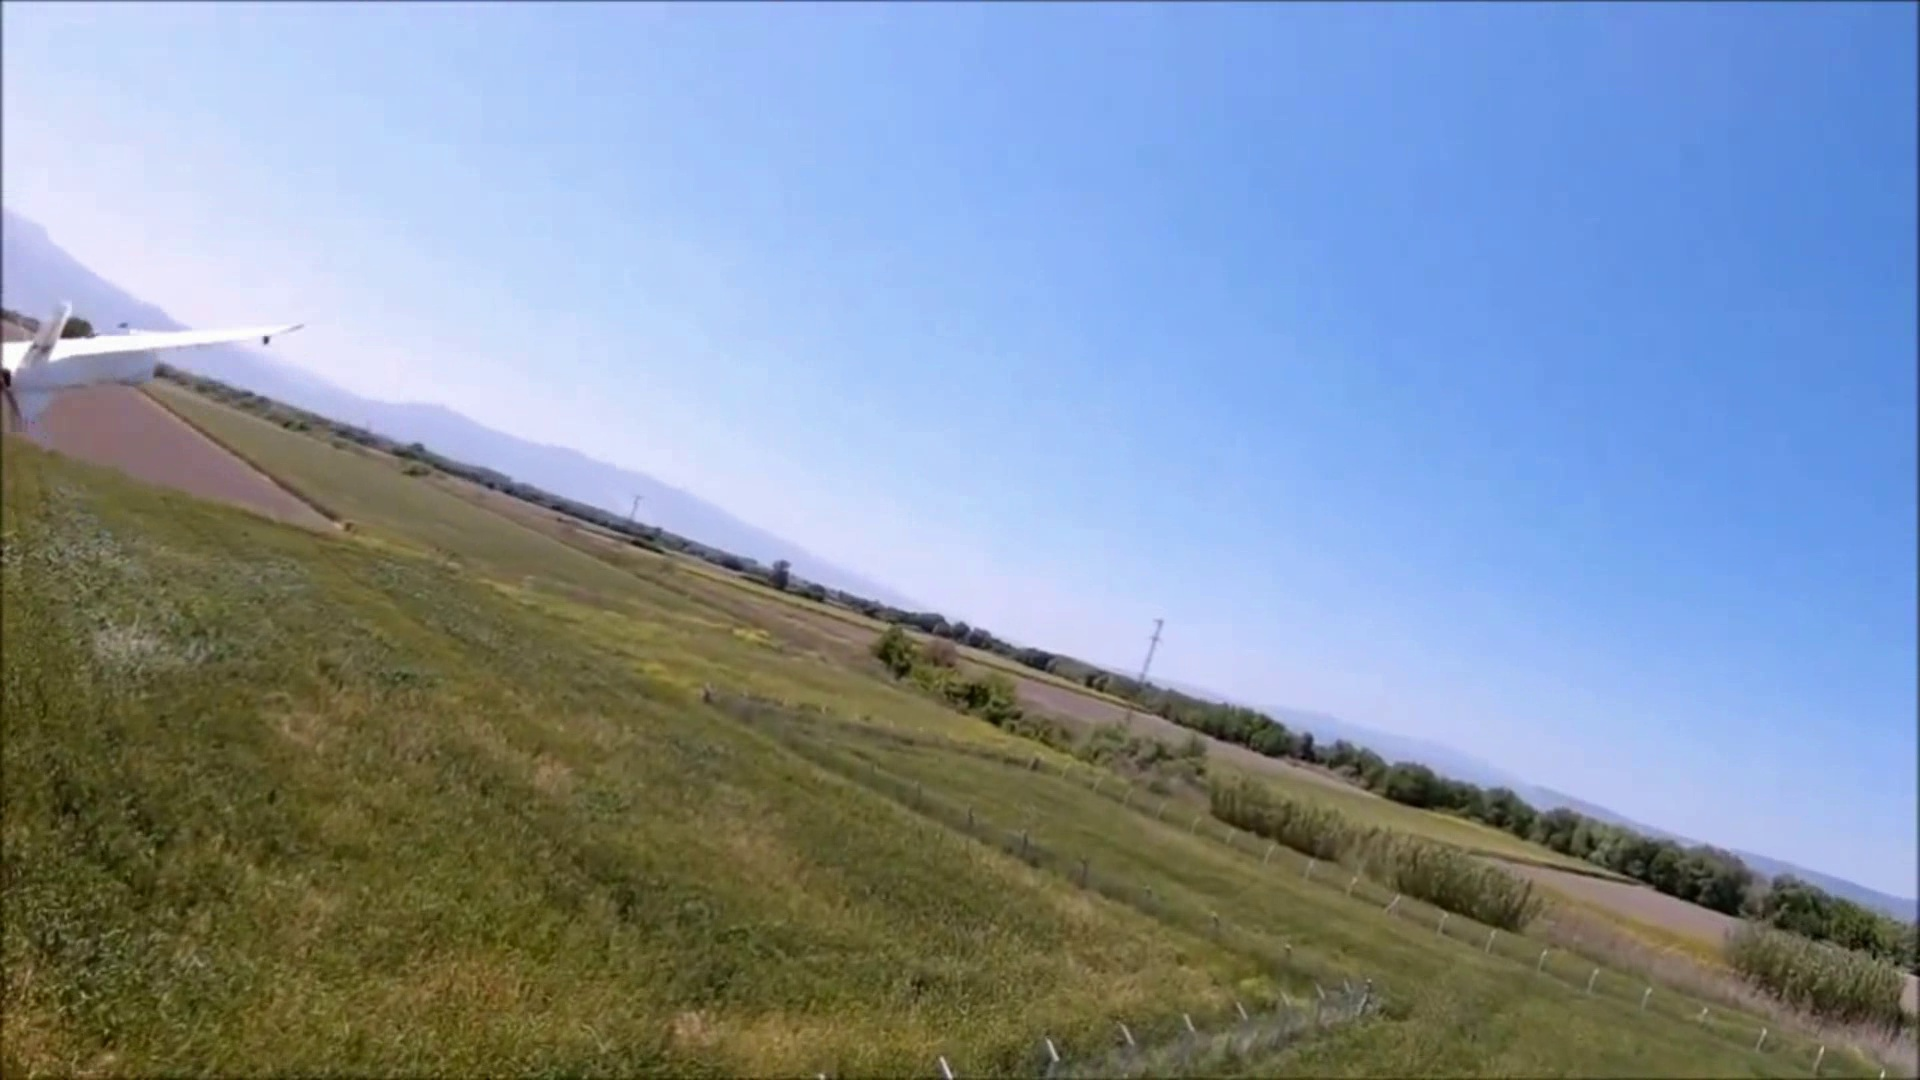airplane: (0, 204, 303, 434)
